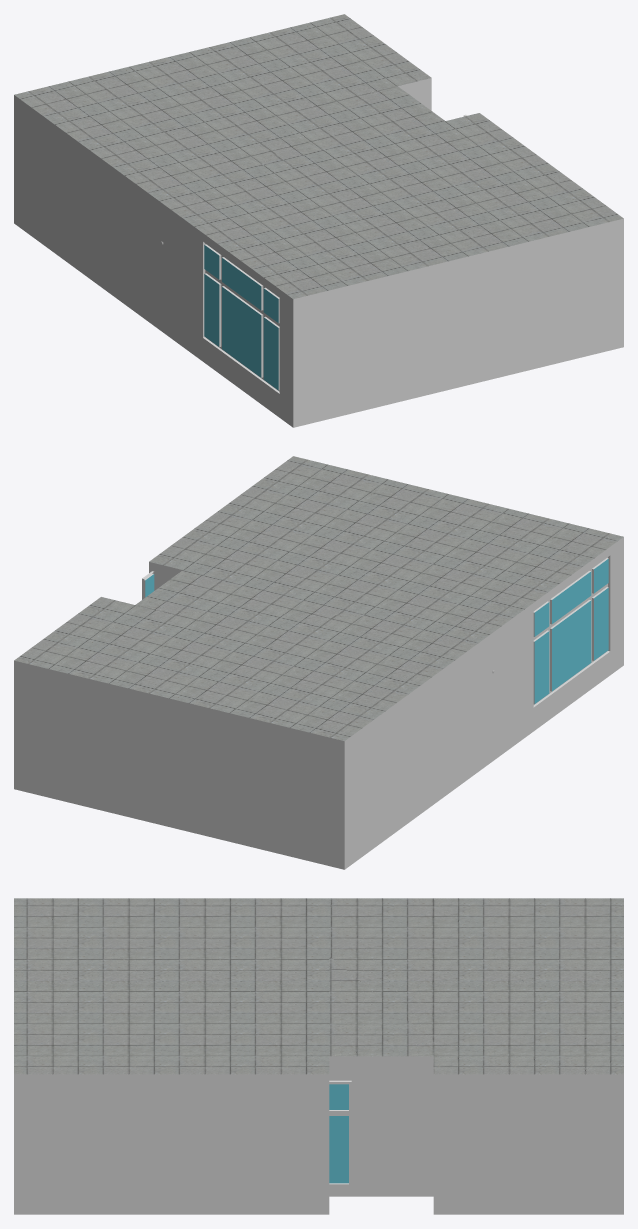
Rendered from Labo_para_mapear (8).fbx.
The picture shows the model from 3 angles, top to bottom: view 1: azimuth 30°, elevation 25°; view 2: azimuth 150°, elevation 25°; view 3: azimuth 270°, elevation 25°; orthographic projection. The views are drawn at different scales.
Visible parts, largest first — view 1: Piso.005; view 2: Piso.005; view 3: Piso.005.
Boxes of the visible parts, bbox=[...] form: Piso.005: bbox=[14, 14, 623, 427]; Piso.005: bbox=[14, 456, 623, 869]; Piso.005: bbox=[14, 898, 623, 1214].
Bounding box in the file's own units: 1609 × 597 × 2348.
